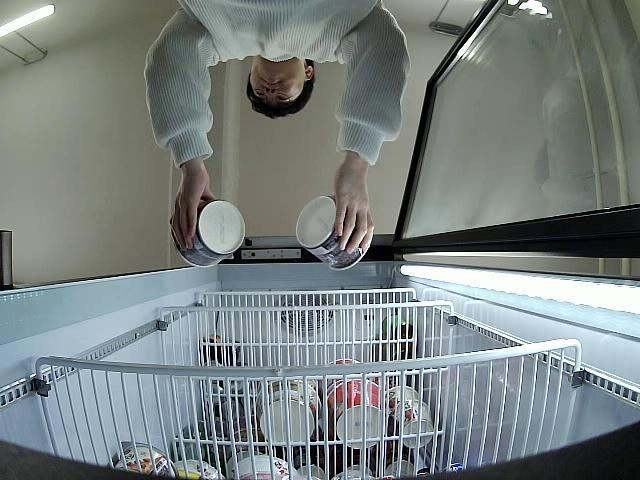07_buldak_L: (296, 195, 374, 270), (170, 196, 244, 270)
